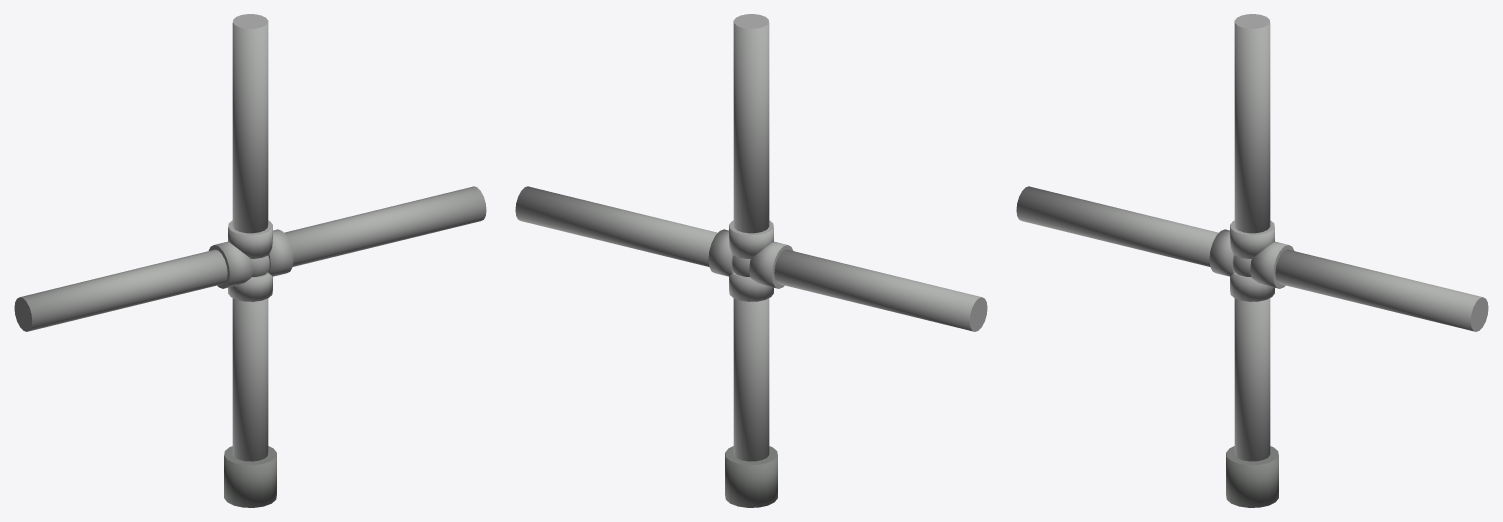
File: pipe_m15_x1.obj
3 views of the same model, side by side, from view 1: azimuth 30°, elevation 25°; view 2: azimuth 150°, elevation 25°; view 3: azimuth 330°, elevation 25° (orthographic).
Visible parts, largest first — view 1: pipe4, pipe8, pipe2, pipe1, sleeve1, fitting_socket8, fitting_socket4, fitting_socket1, fitting_socket2; view 2: pipe4, pipe8, pipe2, pipe1, sleeve1, fitting_socket8, fitting_socket4, fitting_socket1, fitting_socket2; view 3: pipe4, pipe2, pipe8, pipe1, sleeve1, fitting_socket2, fitting_socket4, fitting_socket1, fitting_socket8.
Boxes of the visible parts, x1,y1,x2,y2 form: pipe4: [232, 14, 268, 233]; pipe8: [14, 249, 227, 331]; pipe2: [284, 186, 486, 266]; pipe1: [232, 298, 268, 461]; sleeve1: [224, 446, 276, 507]; fitting_socket8: [208, 241, 252, 288]; fitting_socket4: [228, 220, 272, 258]; fitting_socket1: [228, 272, 272, 301]; fitting_socket2: [268, 229, 293, 276]; pipe4: [733, 14, 769, 233]; pipe8: [774, 249, 987, 331]; pipe2: [515, 186, 717, 266]; pipe1: [733, 298, 769, 461]; sleeve1: [725, 446, 777, 507]; fitting_socket8: [749, 241, 793, 288]; fitting_socket4: [729, 220, 773, 258]; fitting_socket1: [729, 272, 773, 301]; fitting_socket2: [708, 229, 733, 276]; pipe4: [1234, 14, 1270, 233]; pipe2: [1275, 249, 1488, 331]; pipe8: [1016, 186, 1218, 266]; pipe1: [1234, 298, 1270, 461]; sleeve1: [1226, 446, 1278, 507]; fitting_socket2: [1250, 241, 1294, 288]; fitting_socket4: [1230, 220, 1274, 258]; fitting_socket1: [1230, 272, 1274, 301]; fitting_socket8: [1209, 229, 1234, 276].
Bounding box in the file's own units: 1 × 1 × 0.1014.
2 materials, 2 textured.
